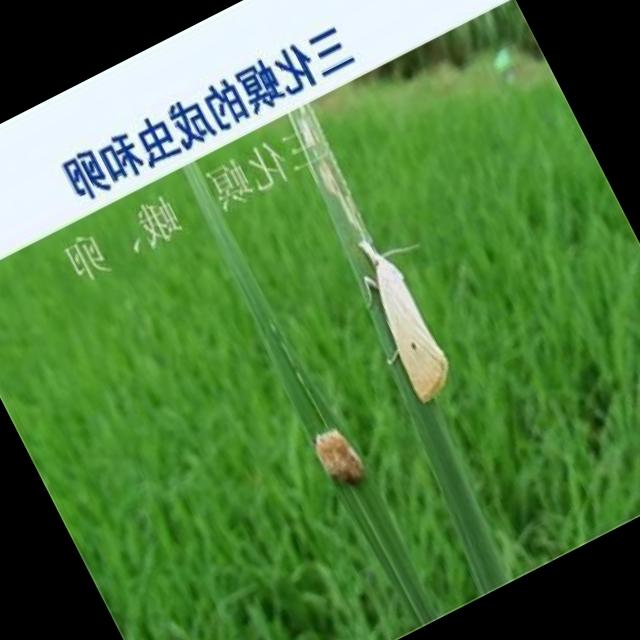stem-borer: (332, 222, 468, 413)
